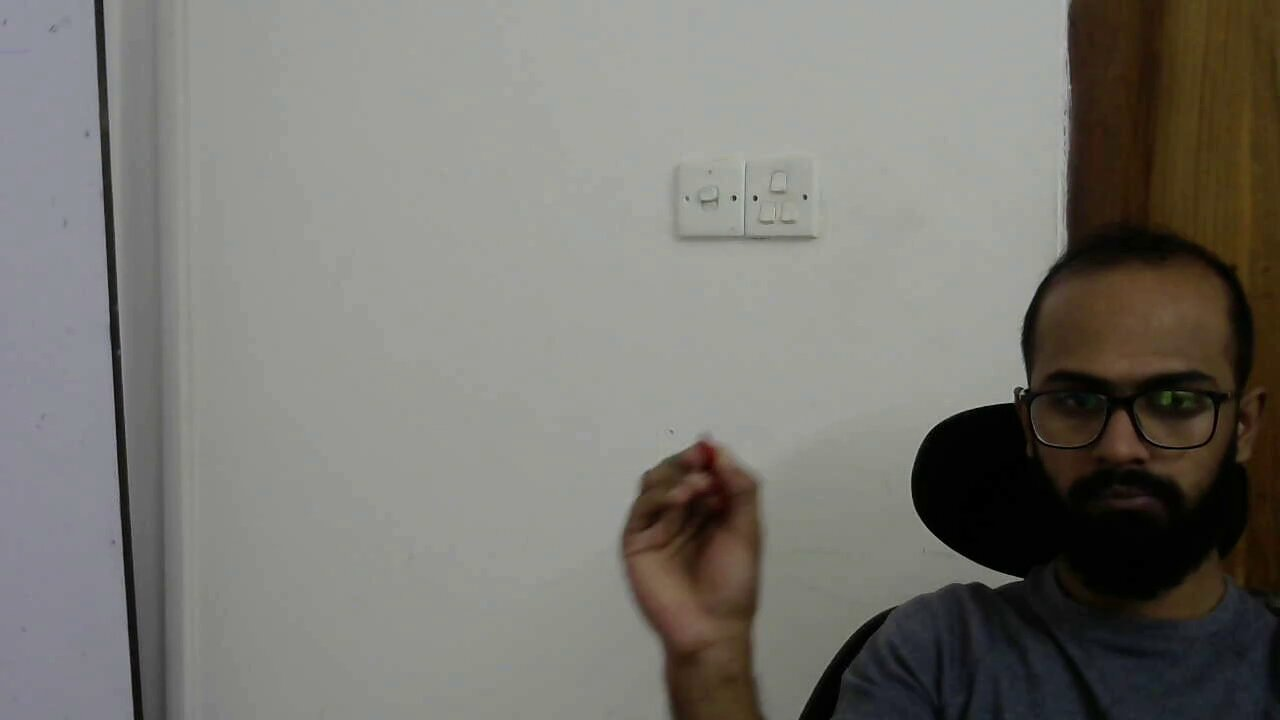pointer: (619, 438, 761, 569)
